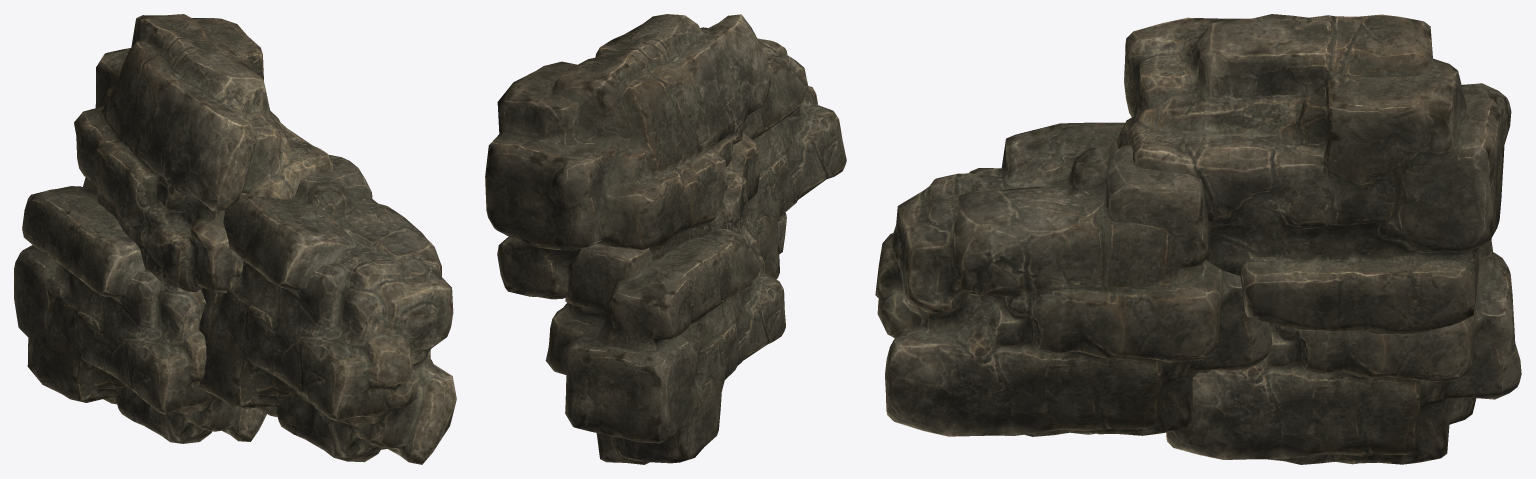
The model's file is rock cliff.gltf.
3 views of the same model, side by side, from view 1: azimuth 30°, elevation 25°; view 2: azimuth 150°, elevation 25°; view 3: azimuth 270°, elevation 25° (orthographic). The views are drawn at different scales.
Parts seen in each view (by area): view 1: node-0; view 2: node-0; view 3: node-0.
Boxes of the visible parts, x1,y1,x2,y2 form: node-0: [14, 14, 456, 464]; node-0: [485, 14, 846, 464]; node-0: [875, 14, 1521, 464].
Bounding box in the file's own units: 238523 × 395424 × 509339.
Materials: 1 (1 with a texture image).
